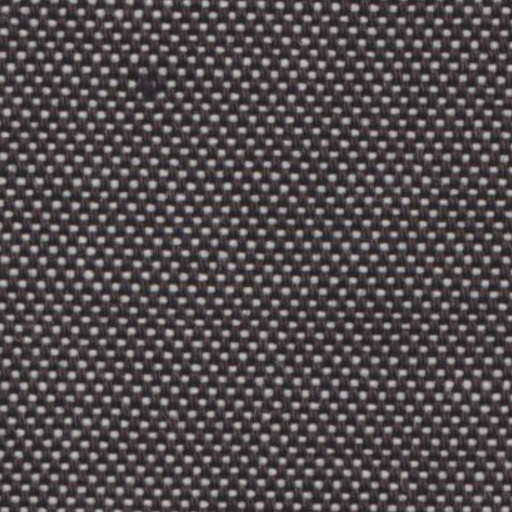MianQiu: (122, 42, 186, 108)
